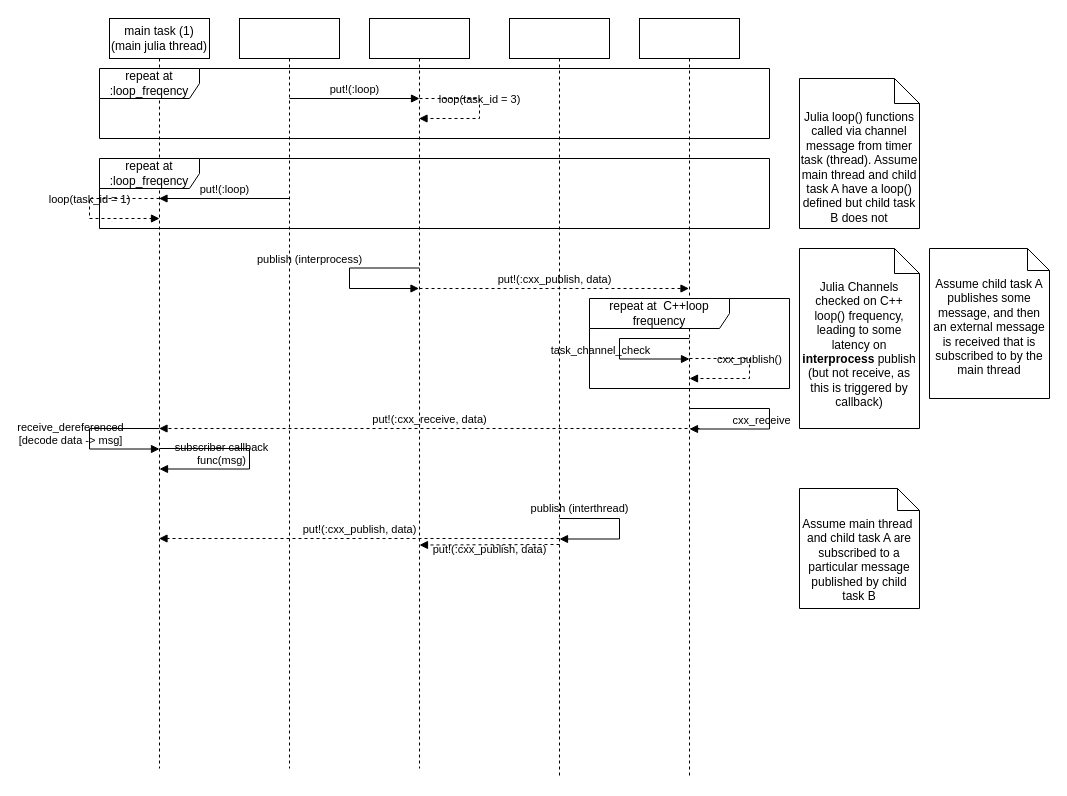
The diagram is 1067 pixels wide and 796 high, and some of its shapes have lost their labels. Each missing label, with the box of its shape:
child task A (3) (user thread A): (368, 18, 470, 768)
child task B (4) (user thread B): (508, 18, 610, 778)
cxx task (5) (Goby C++ app): (638, 18, 740, 778)
timer task (2) (all timers for loop()): (238, 18, 340, 768)
